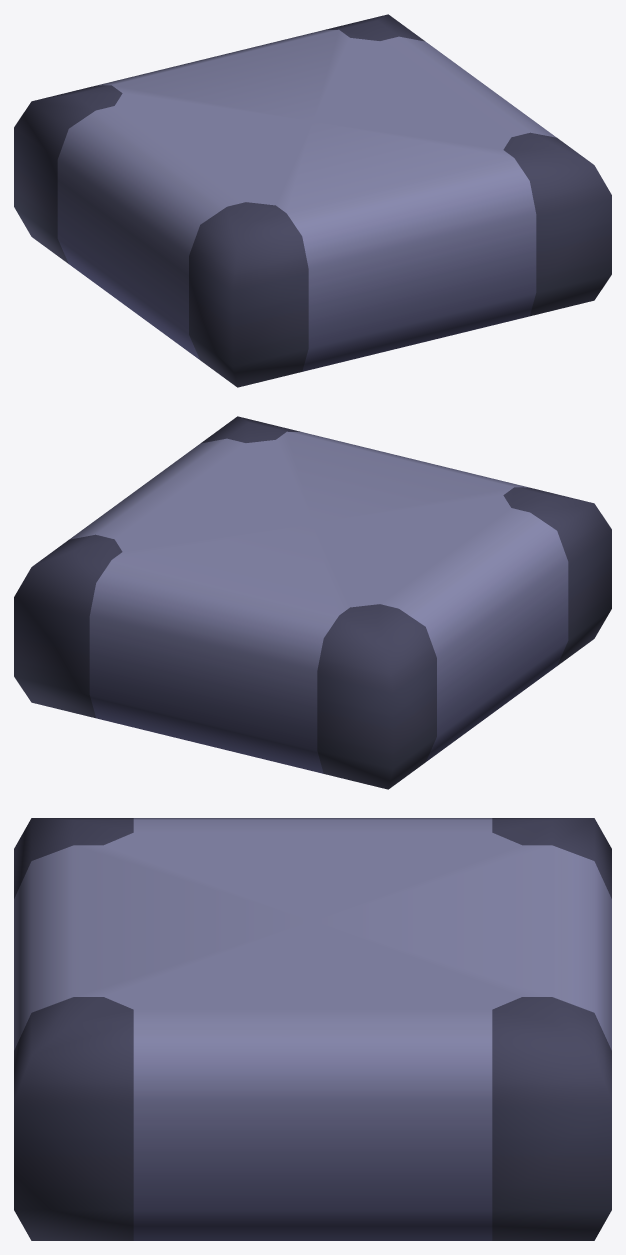
The model's file is kenney-factory-conveyor-stripe-cross.glb.
3 renders of one model, top to bottom at view 1: azimuth 30°, elevation 25°; view 2: azimuth 150°, elevation 25°; view 3: azimuth 270°, elevation 25°, orthographic. The views are drawn at different scales.
Visible parts, largest first — view 1: conveyor-stripe-cross; view 2: conveyor-stripe-cross; view 3: conveyor-stripe-cross.
Boxes of the visible parts, x1,y1,x2,y2 form: conveyor-stripe-cross: [14, 14, 611, 387]; conveyor-stripe-cross: [14, 416, 611, 789]; conveyor-stripe-cross: [14, 818, 611, 1240].
Size of the model in its own units: 1 by 0.3999 by 1.
1 material, 1 textured.
